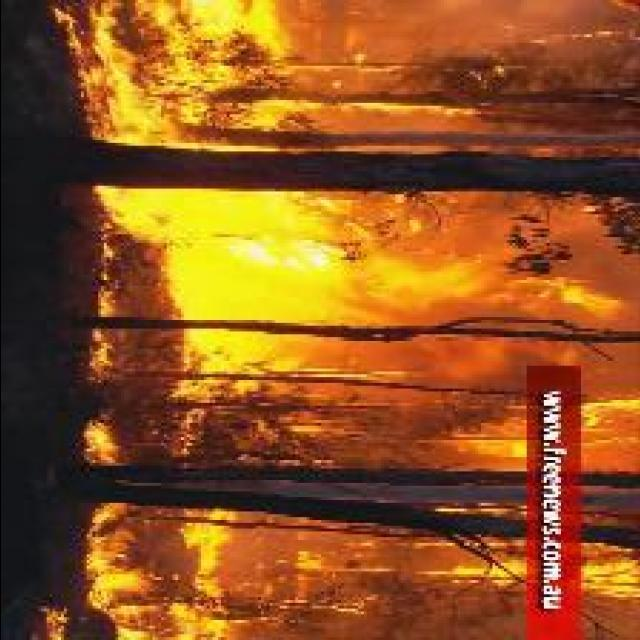Fire: (93, 188, 627, 398), (52, 0, 640, 151), (82, 503, 150, 640), (165, 511, 238, 638), (583, 557, 640, 603), (583, 398, 640, 432), (83, 416, 120, 468)
